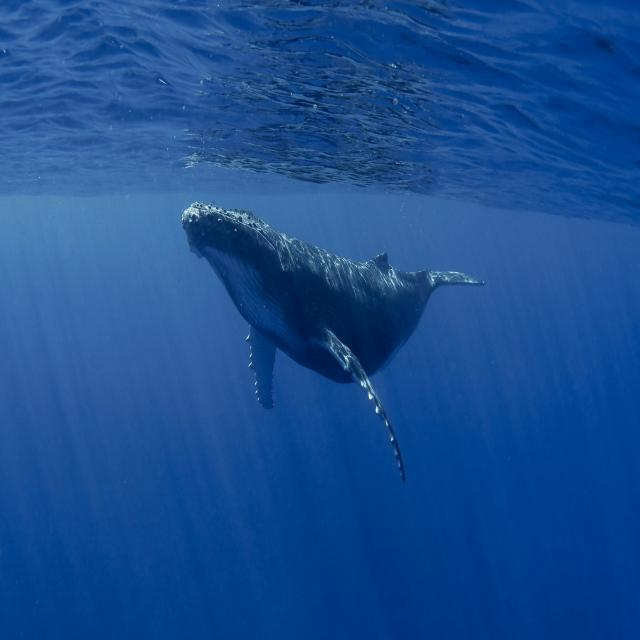blue_whale: (172, 173, 488, 508)
